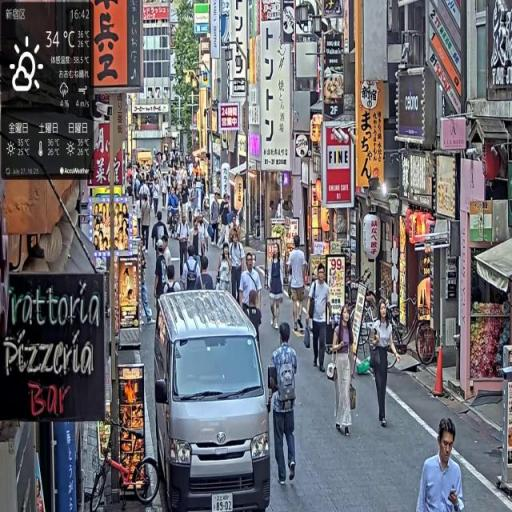person: (269, 320, 300, 488), (417, 417, 465, 512), (368, 298, 402, 431), (329, 303, 356, 436), (306, 264, 333, 376), (287, 237, 309, 335), (240, 251, 264, 333), (269, 244, 285, 330), (230, 227, 247, 304), (176, 208, 192, 287), (197, 256, 218, 292), (141, 196, 152, 253), (211, 193, 222, 247)
